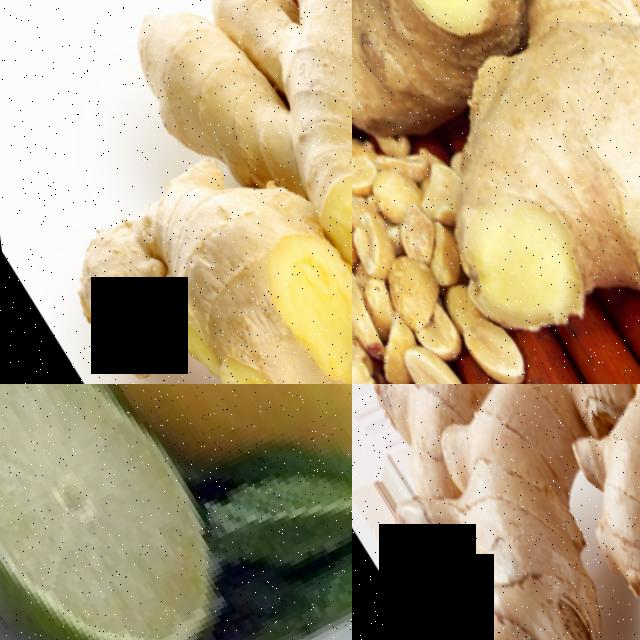ginger: (376, 0, 640, 384), (13, 118, 352, 384), (352, 384, 640, 640), (75, 0, 352, 220), (352, 0, 575, 113)
lemon: (0, 384, 261, 640), (23, 384, 352, 484)
